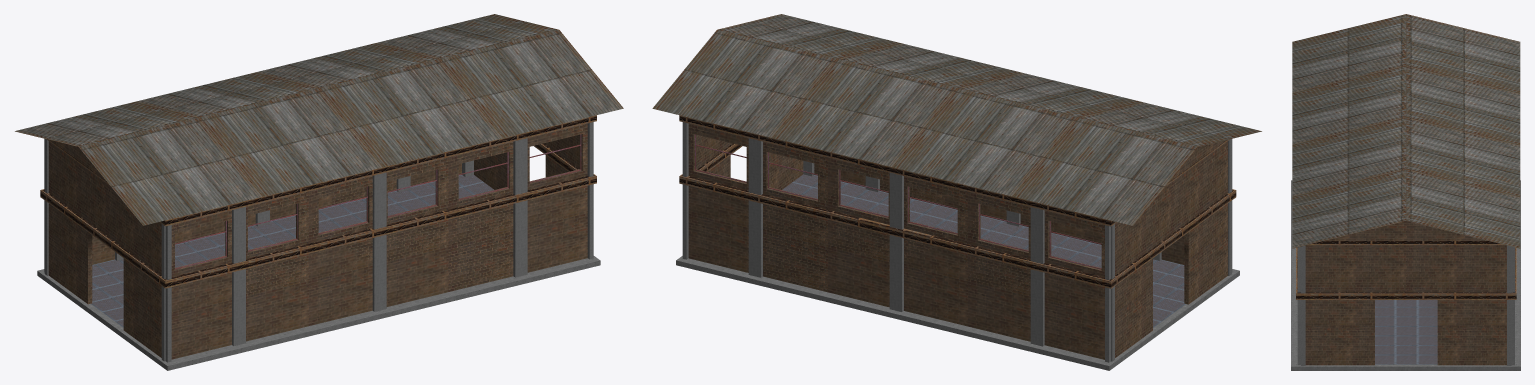
Rendered from Building_WarehouseA_2048.glb.
3 views of the same model, side by side, from view 1: azimuth 30°, elevation 25°; view 2: azimuth 150°, elevation 25°; view 3: azimuth 270°, elevation 25° (orthographic). The views are drawn at different scales.
Parts seen in each view (by area): view 1: xiutz_warehouse_a; view 2: xiutz_warehouse_a; view 3: xiutz_warehouse_a.
Part boxes in pixels (x1,y1,x2,y2): xiutz_warehouse_a: (15,14,623,370); xiutz_warehouse_a: (652,14,1261,370); xiutz_warehouse_a: (1291,14,1520,370).
Bounding box in the file's own units: 33.84 × 12.23 × 15.89.
1 material, 1 textured.
